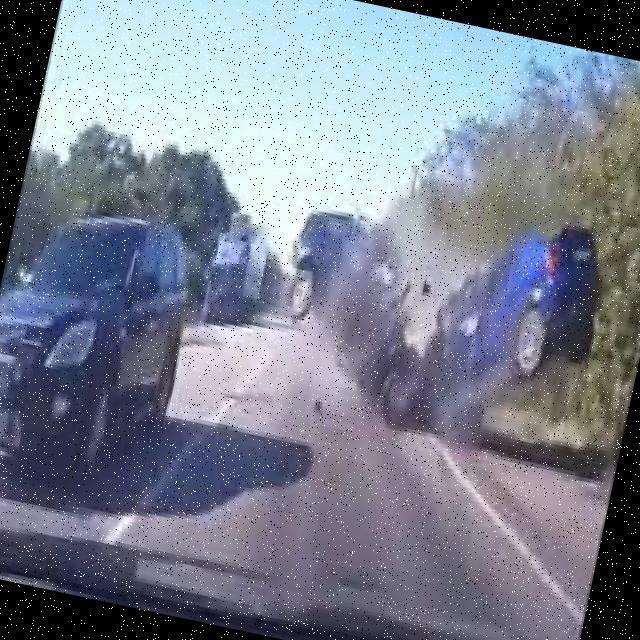accident: (252, 152, 620, 468)
